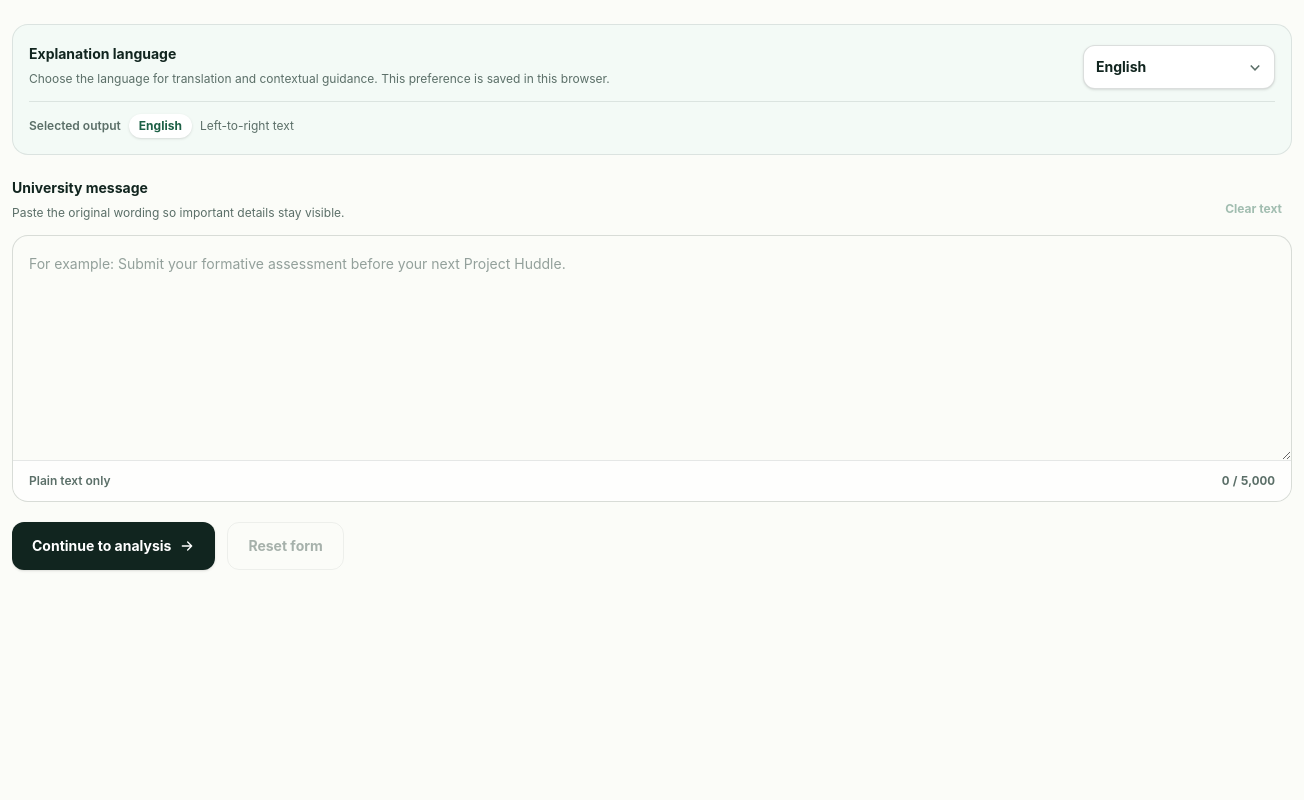
Test: MessageInputForm › clears the text and returns focus to the message field
The width and height of the screenshot is (1304, 800).
Type "Please attend the project meeting." into the text box labelled "University message".
click(652, 348); type("Please attend the project meeting.")  # box top-left (13, 236), bottom-right (1291, 460)
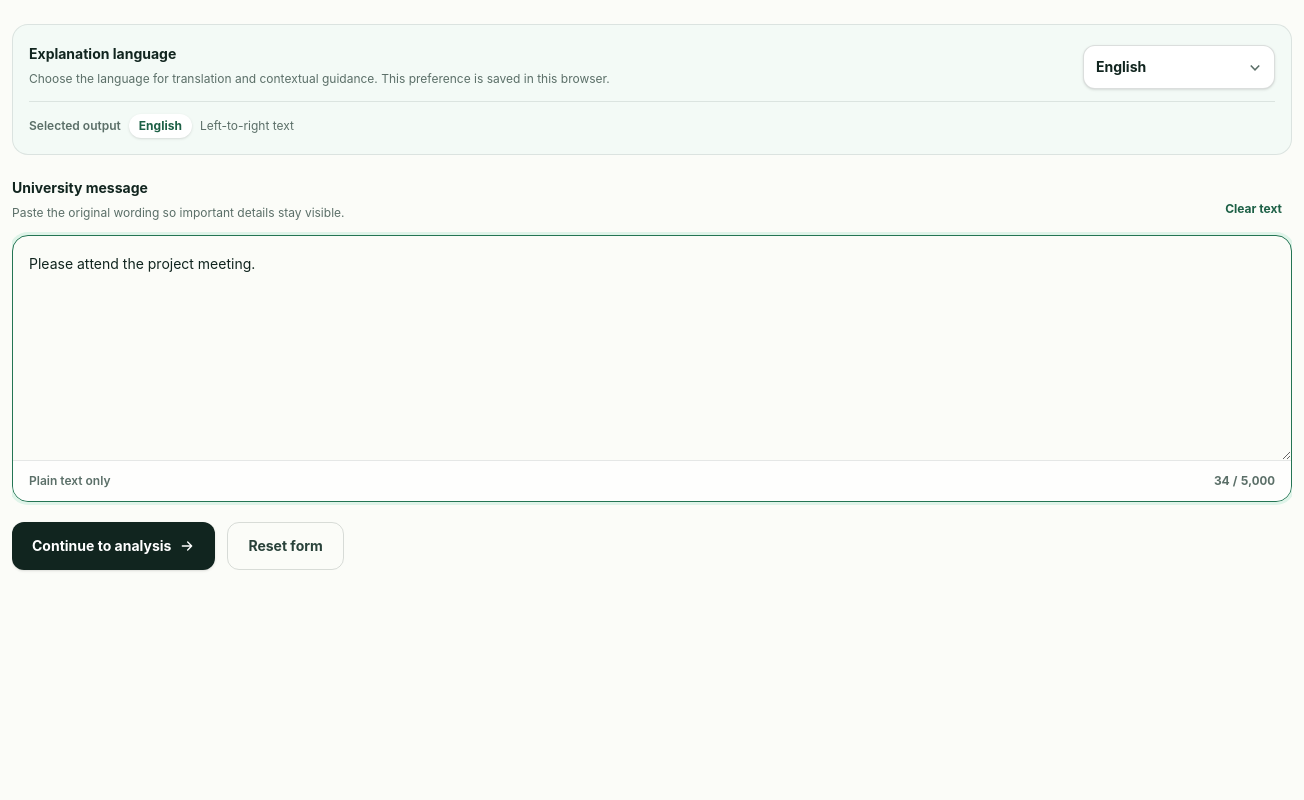
Click the button "Clear text".
click(1254, 209)  # box top-left (1215, 195), bottom-right (1292, 223)
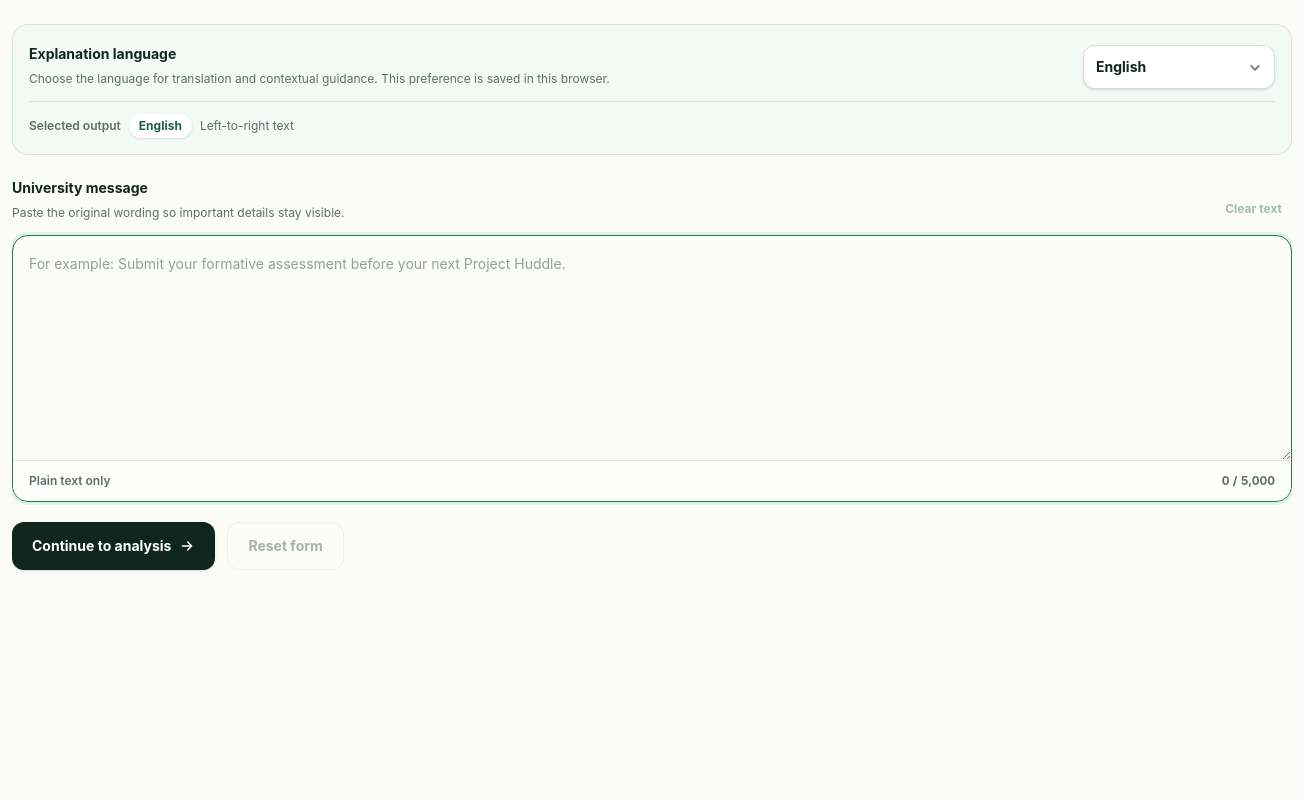
Now the text box labelled "University message" is empty, box top-left (13, 236), bottom-right (1291, 460)
Now the text "0 / 5,000" is shown, box top-left (1222, 473), bottom-right (1275, 489)
